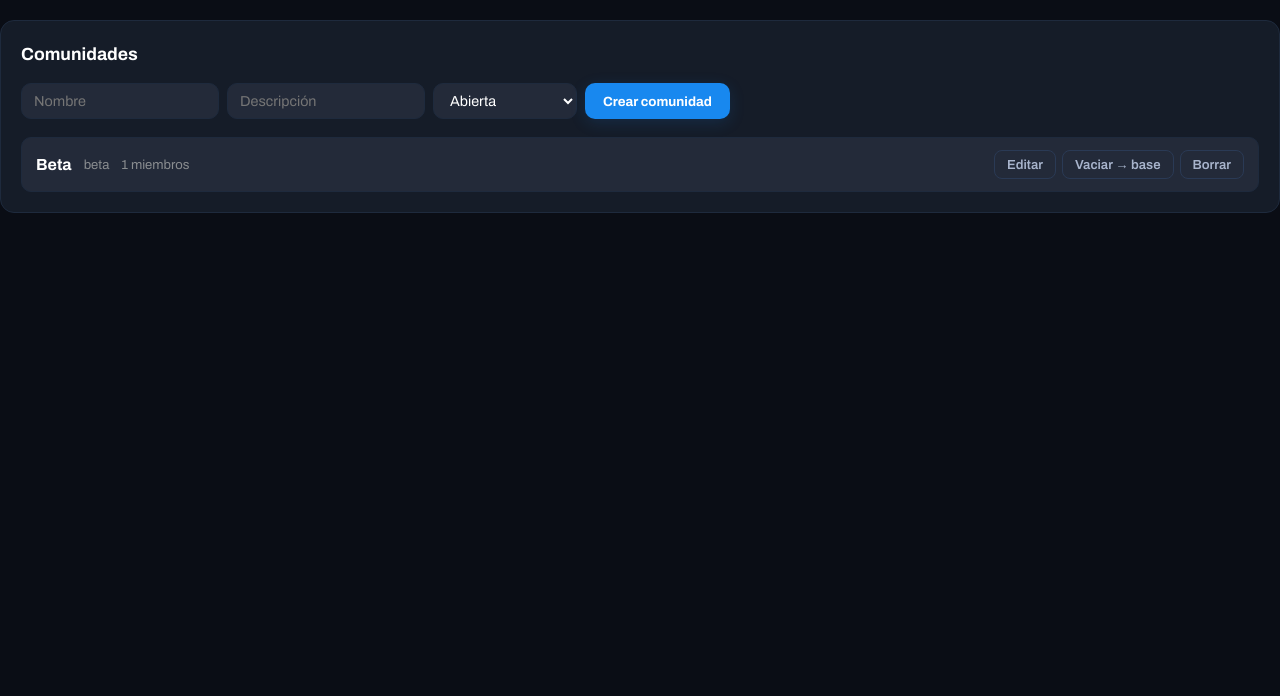
Scenario: <CommunitiesAdmin> › shows per-community section toggles in the editor
Step 1. Click the button "Editar" → [1025, 165], box [994, 150, 1056, 179]
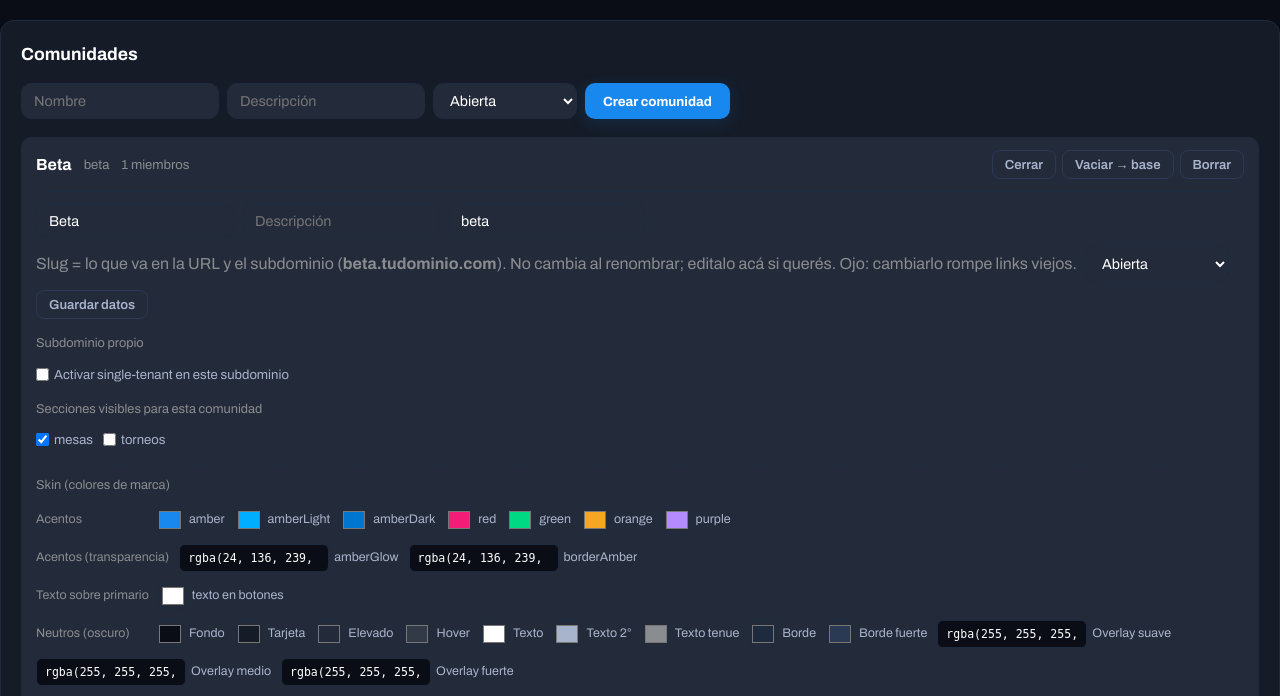
Check: the checkbox labelled "torneos" is not checked, box [103, 433, 116, 446]
